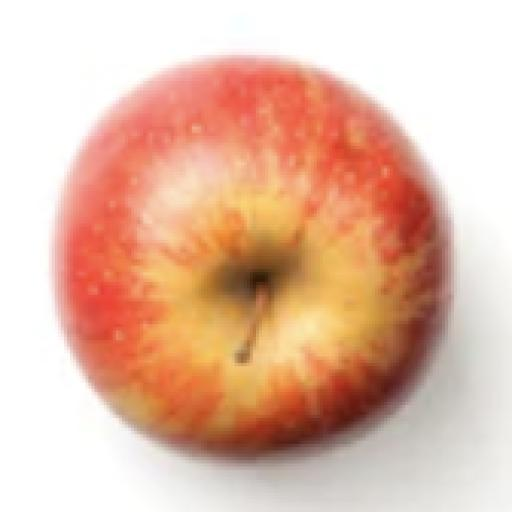apple: (55, 59, 451, 453)
